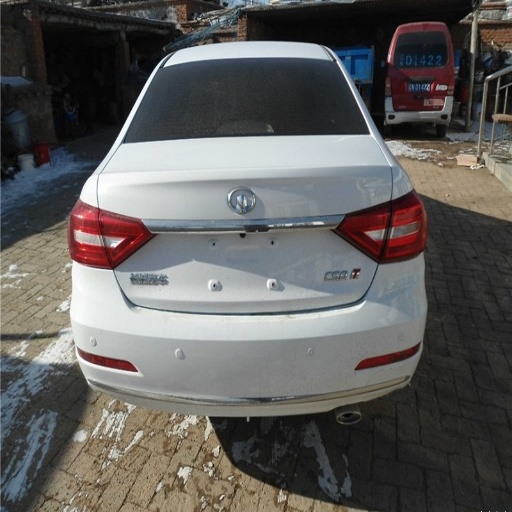back_bumper: (73, 248, 423, 415)
tailgate: (121, 135, 393, 308)
